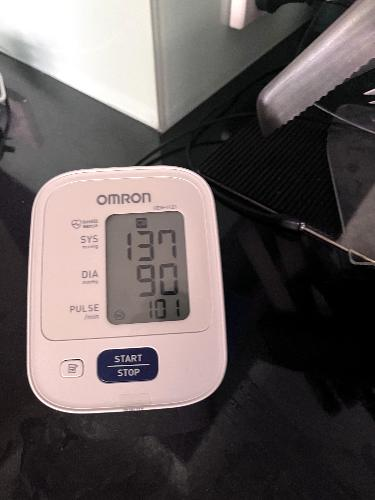bpm: (100, 209, 192, 326)
